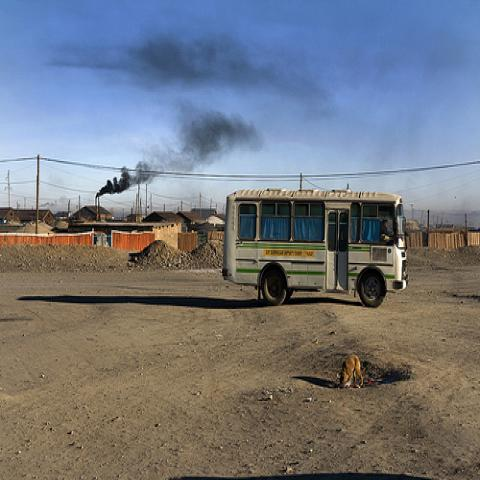bus: (221, 188, 408, 308)
